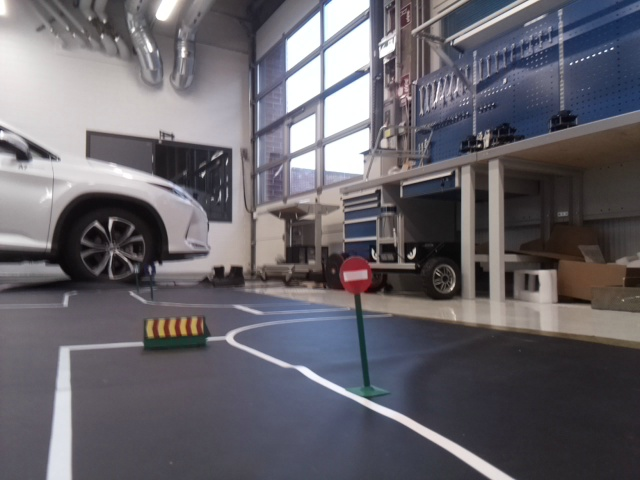ClosedRoadStand: (142, 316, 205, 340)
NoEntry: (336, 256, 372, 293)
